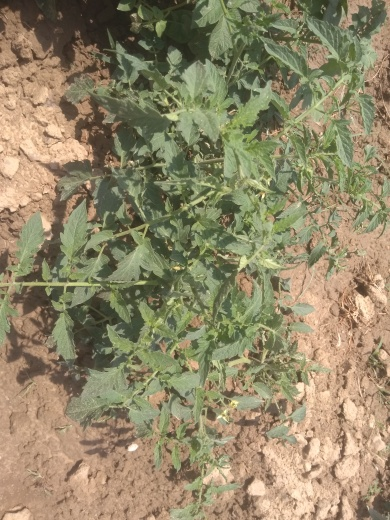tomato plant: (81, 1, 299, 412), (10, 213, 298, 446)
